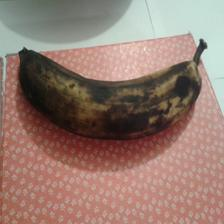Banana Rotten: (8, 39, 219, 132)
